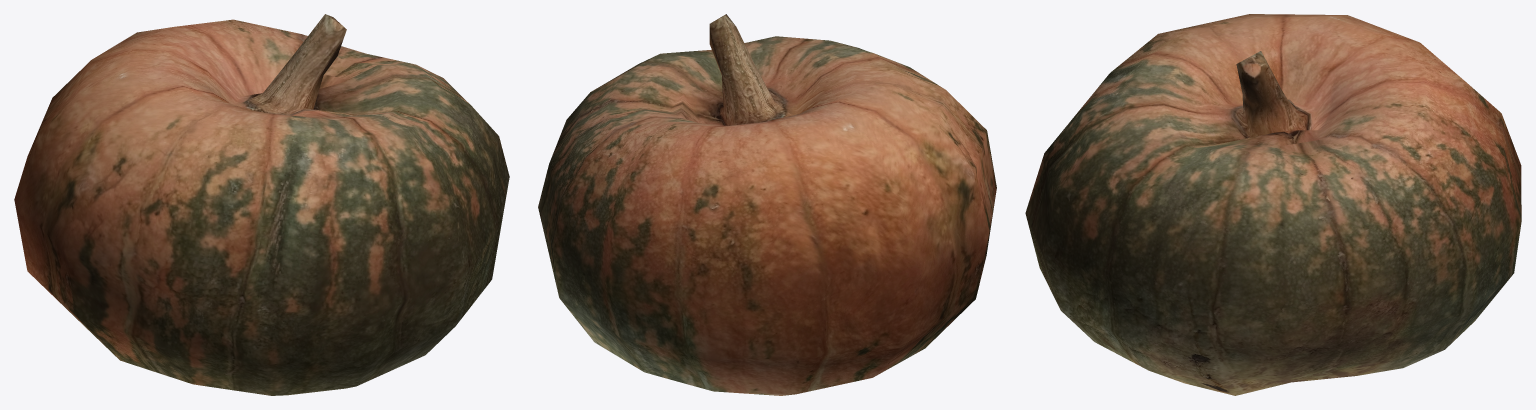
Rendered from A72_Pumpkin_low.fbx.
3 renders of one model, left to right at view 1: azimuth 30°, elevation 25°; view 2: azimuth 150°, elevation 25°; view 3: azimuth 270°, elevation 25°, orthographic. The views are drawn at different scales.
Parts seen in each view (by area): view 1: A72_Pumpkin_low; view 2: A72_Pumpkin_low; view 3: A72_Pumpkin_low.
Part boxes in pixels (bbox=[...]): A72_Pumpkin_low: bbox=[14, 14, 509, 395]; A72_Pumpkin_low: bbox=[538, 14, 996, 395]; A72_Pumpkin_low: bbox=[1025, 14, 1521, 395].
Bounding box in the file's own units: 20.86 × 21.03 × 15.38.
Materials: 1 (1 with a texture image).
